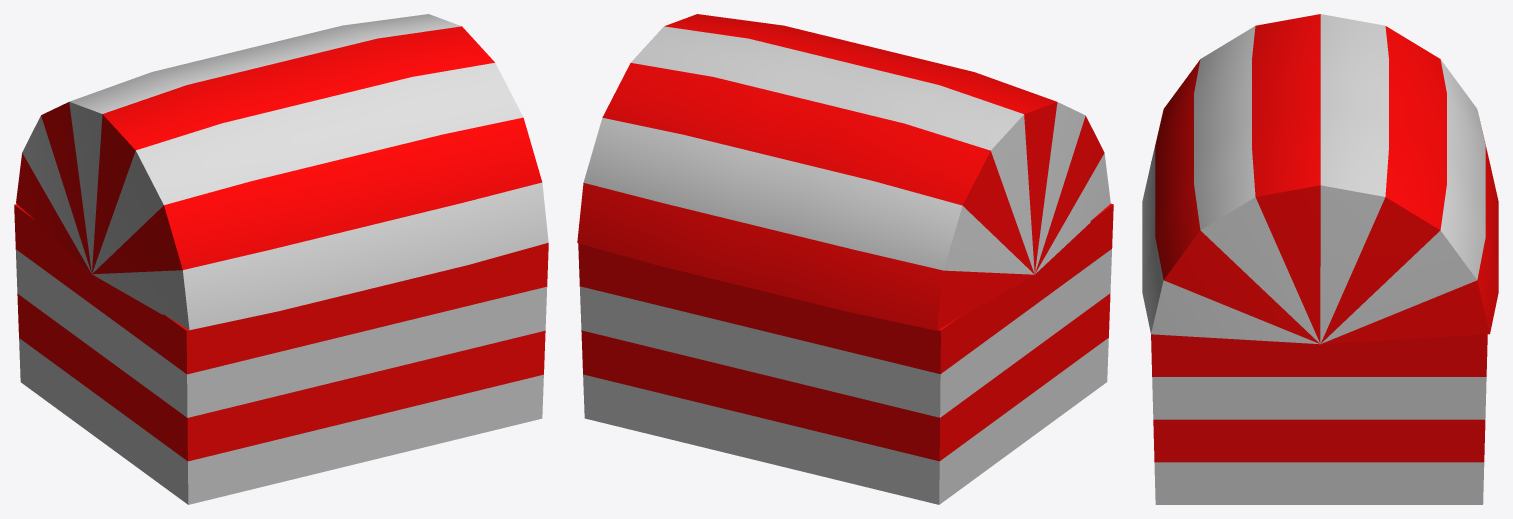
Rendered from chest_pill.FBX.
3 renders of one model, left to right at view 1: azimuth 30°, elevation 25°; view 2: azimuth 150°, elevation 25°; view 3: azimuth 270°, elevation 25°, orthographic. The views are drawn at different scales.
Visible parts, largest first — view 1: Cylinder001, Box001; view 2: Cylinder001, Box001; view 3: Cylinder001, Box001.
Part boxes in pixels (left/top/right/bottom): Cylinder001: left=16, top=14, right=548, bottom=330; Box001: left=14, top=204, right=548, bottom=504; Cylinder001: left=577, top=14, right=1110, bottom=330; Box001: left=578, top=203, right=1113, bottom=504; Cylinder001: left=1142, top=14, right=1498, bottom=344; Box001: left=1151, top=162, right=1487, bottom=504.
Bounding box in the file's own units: 0.6 × 0.5087 × 0.4981.
